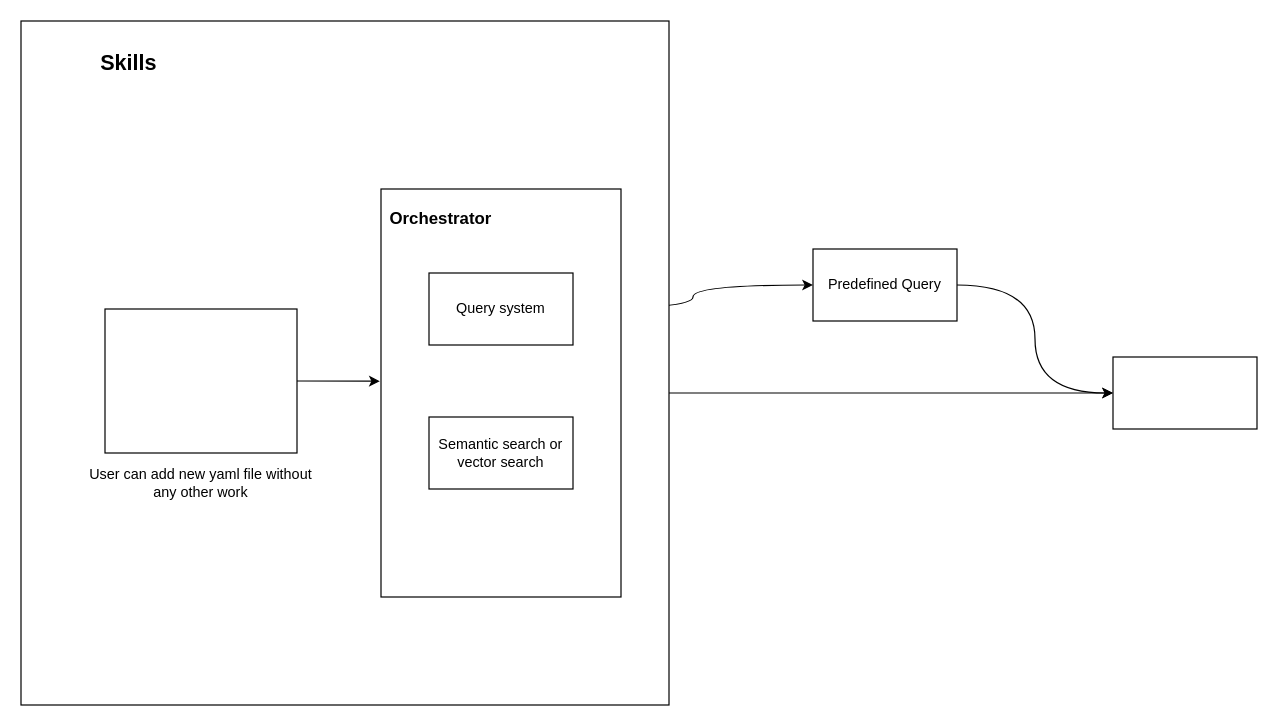
This 1278x726 diagram has some shape labels left out. Here are the shapes that lost their labels. From the top down, the centre of each, then its label:
point (200, 380): Skill Yaml files
point (1184, 392): Outside use
